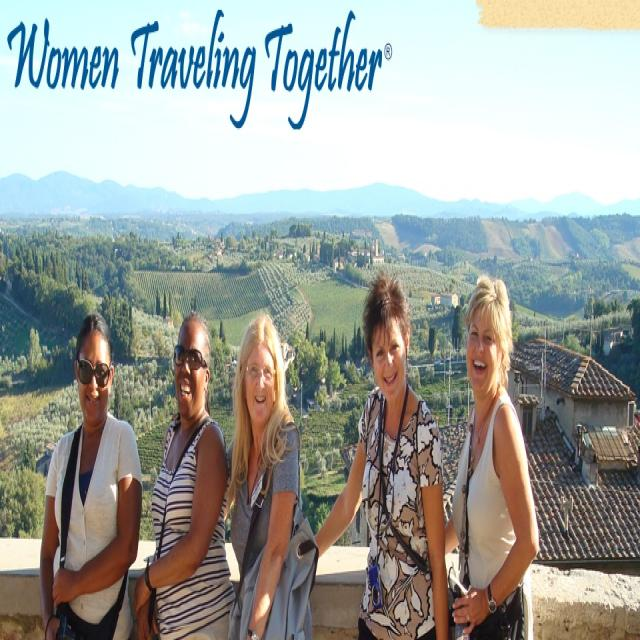body: (313, 273, 451, 640), (131, 305, 247, 639), (444, 273, 543, 640), (36, 310, 146, 638), (225, 313, 304, 640)
